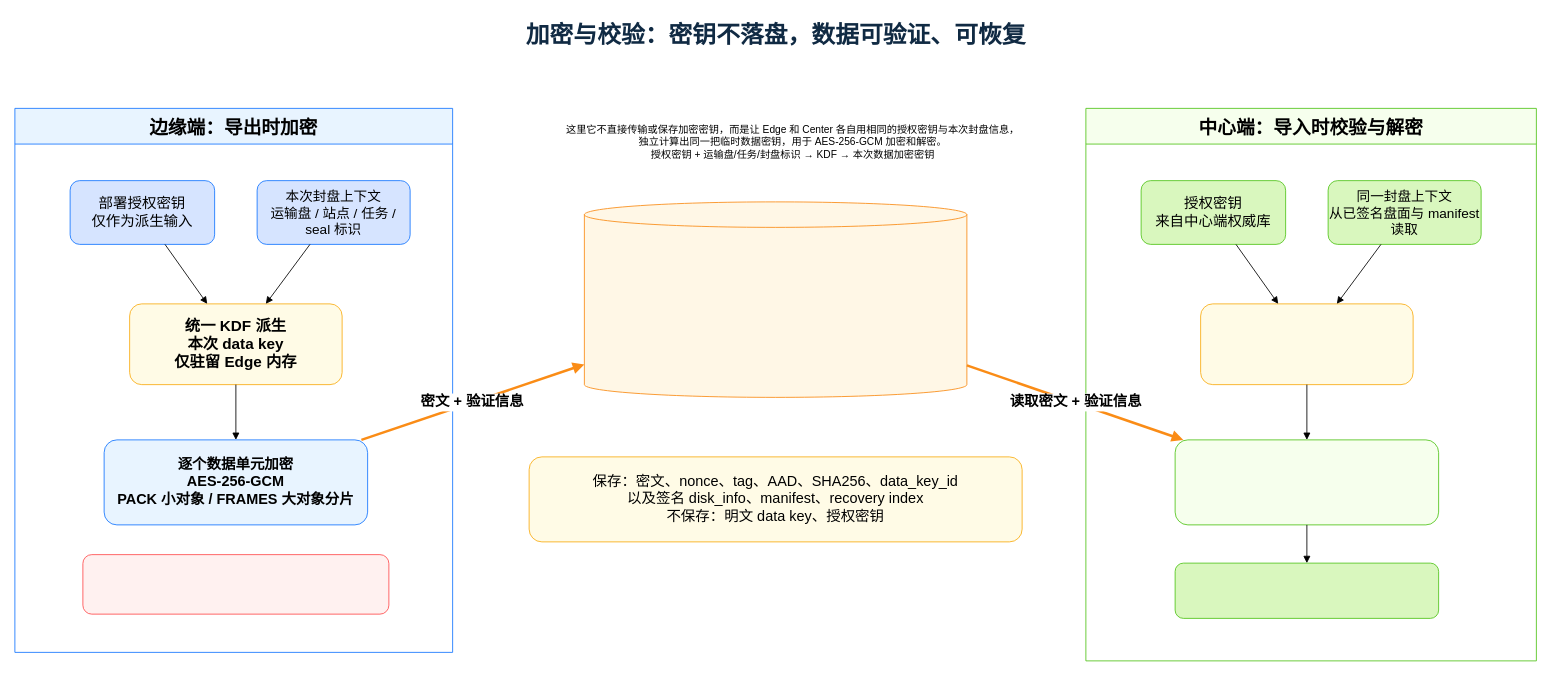
Image size: 1551x676. Some labels were removed from this diagram. Each missing label, with the box of its shape:
先验证，再解密 签名 → manifest → SHA256 → AAD AES-GCM 认证 → 明文 SHA256: (1174, 439, 1439, 525)
安全边界：不把明文 data key 或授权密钥写入数据库、硬盘、浏览器: (82, 554, 389, 614)
校验通过才归档 写入对象账本，重复数据跳过: (1174, 562, 1439, 618)
调用同一 KDF 重新派生相同 data key 仅驻留 Center 内存: (1200, 303, 1413, 385)
运输硬盘 只保存密文与验证信息: (584, 201, 967, 397)
